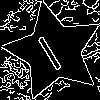I: (29, 26, 66, 73)
